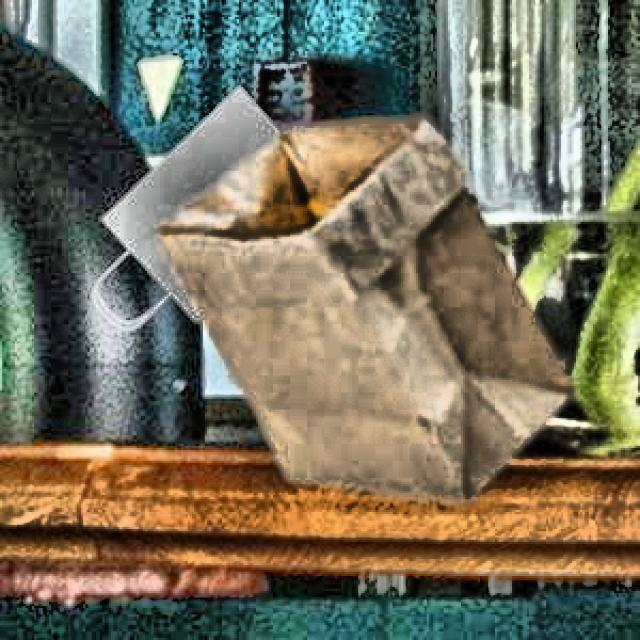Paper-bag: (157, 96, 588, 532), (78, 80, 326, 335)
